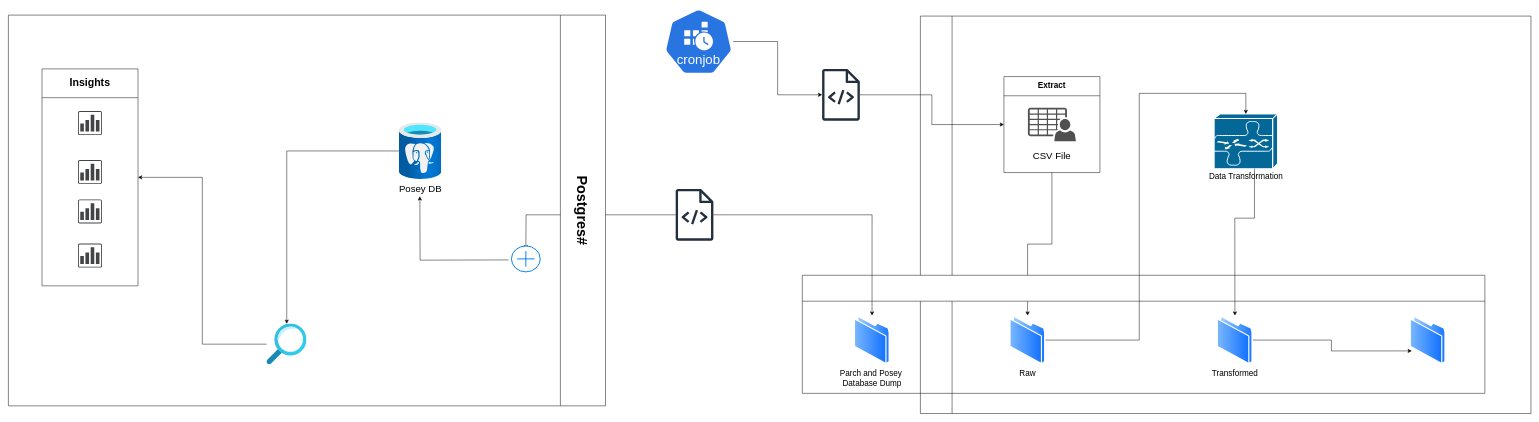
The diagram is 1539 pixels wide and 422 high, and some of its shapes have lost their labels. Here are the shapes that lost their labels. From the top down, the box of each, then its label:
(920, 16, 1531, 414): ETL
(266, 324, 307, 364): Query
(802, 275, 1485, 393): File Storage
(1410, 315, 1446, 364): Gold
